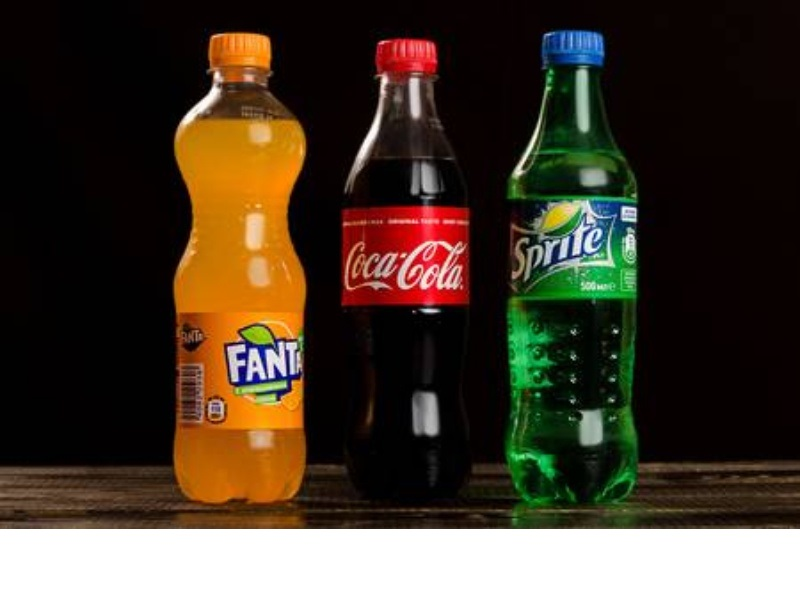lemonade: (143, 27, 321, 510), (320, 25, 490, 519), (498, 20, 666, 512)
